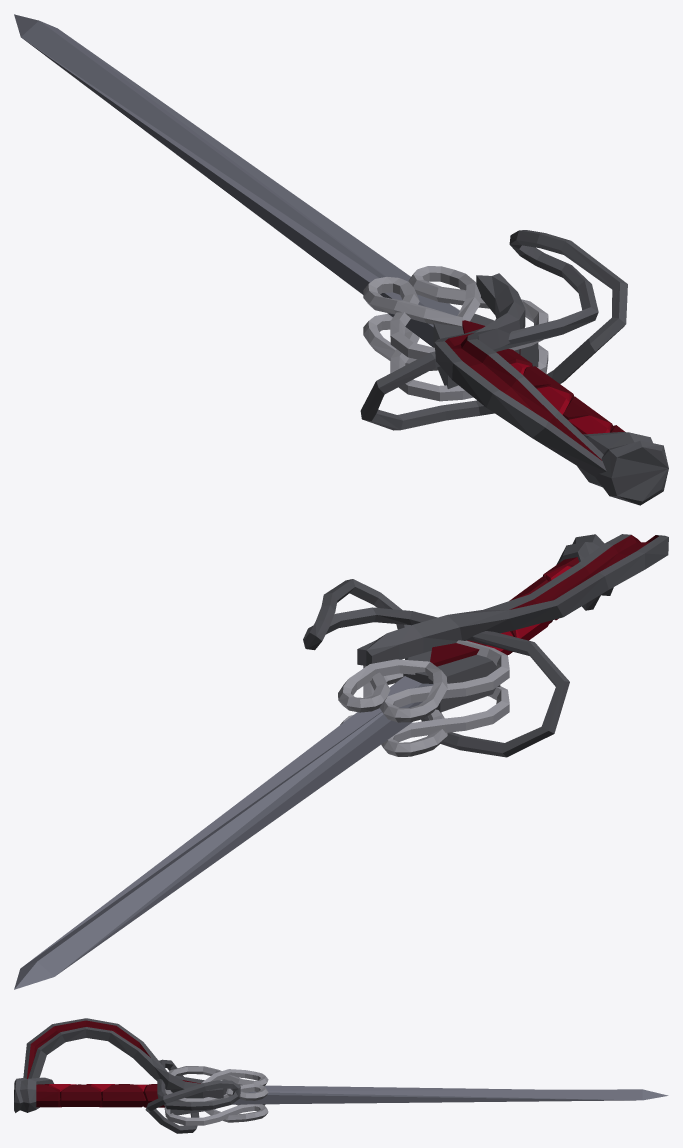
Rendered from sword_12.glb.
3 renders of one model, top to bottom at view 1: azimuth 30°, elevation 25°; view 2: azimuth 150°, elevation 25°; view 3: azimuth 270°, elevation 25°, orthographic. The views are drawn at different scales.
Parts seen in each view (by area): view 1: sword_12; view 2: sword_12; view 3: sword_12.
Boxes of the visible parts, <box> form: sword_12: <box>14,14,668,505</box>; sword_12: <box>14,534,668,989</box>; sword_12: <box>14,1018,668,1133</box>.
Size of the model in its own units: 0.2487 by 0.1509 by 1.09.
1 material, 1 textured.
